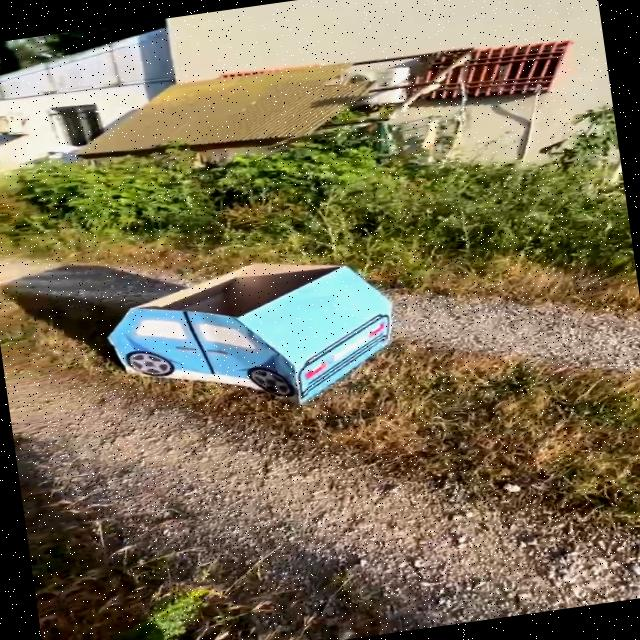blue_car: (60, 224, 469, 462)
